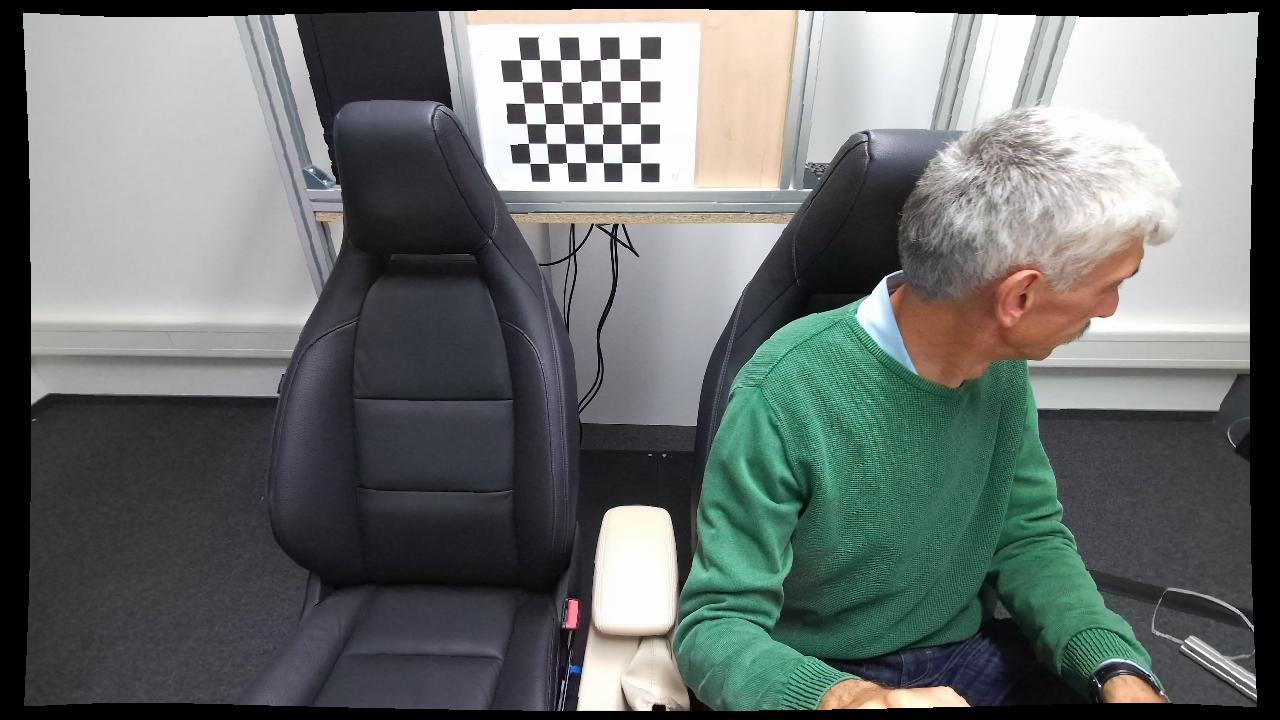Distracted: (671, 106, 1249, 713)
